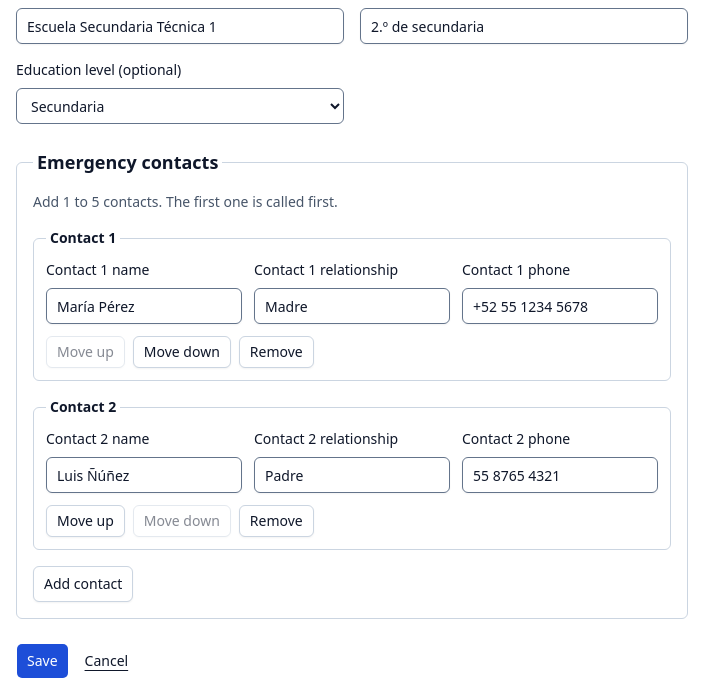
Test: editing (J1, J2, J4) › removing a contact moves focus to a neighbour
This screenshot has width=705, height=695.
(page scrolled)
Click the button "Remove" below "Contact 2 name": (276, 521) [239,505,314,537]
(page scrolled)
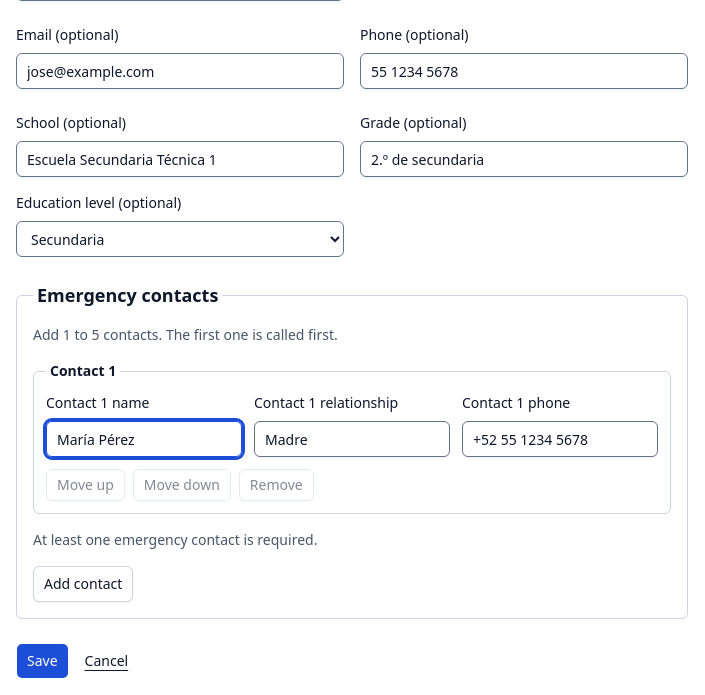
Now the button "Remove" is disabled, box [239,469,314,501]
